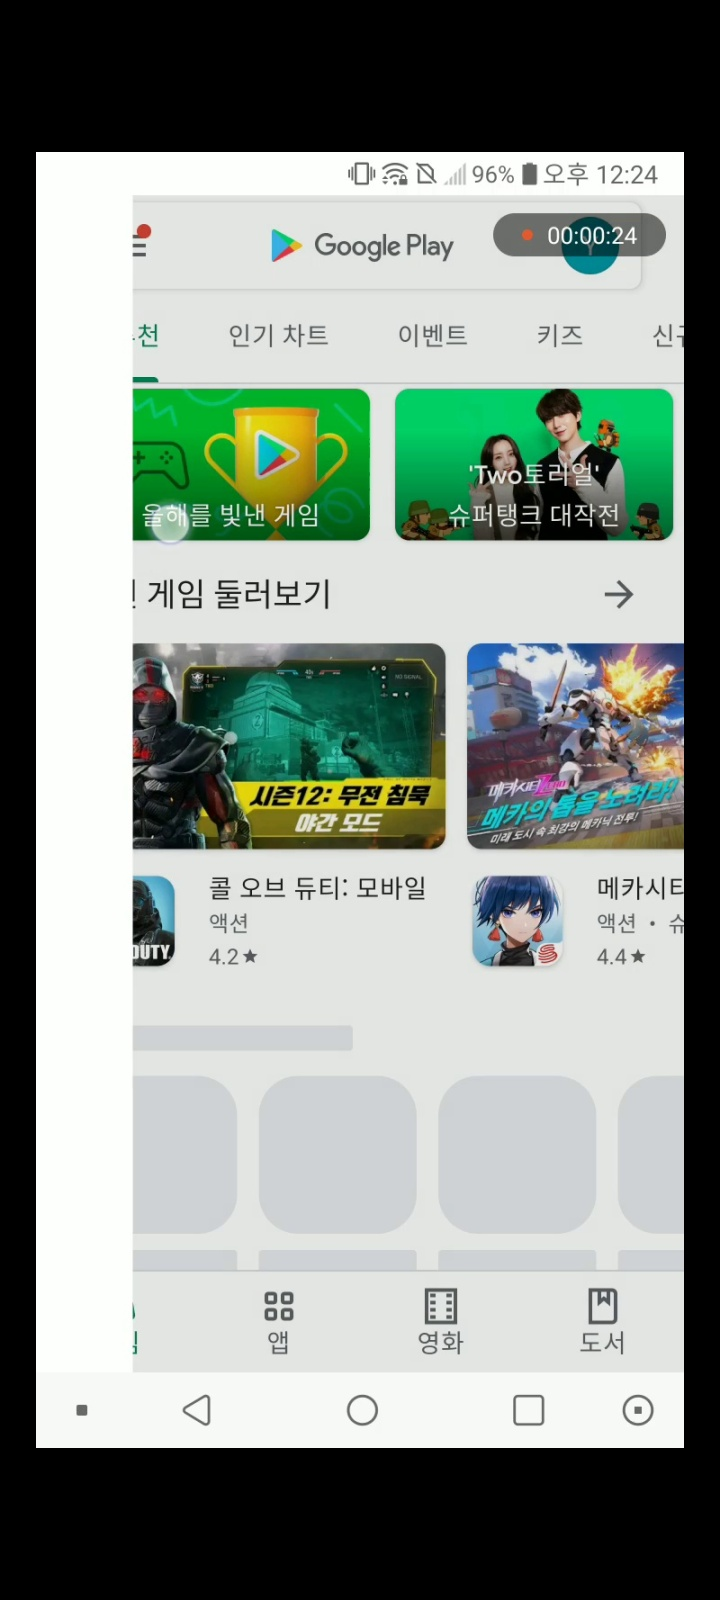Cursor: (148, 501, 193, 546)
